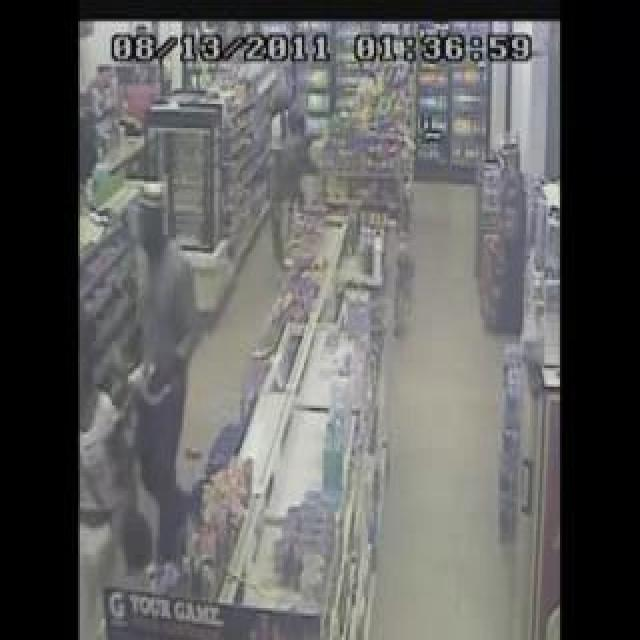thief: (89, 306, 132, 446), (252, 104, 311, 199), (117, 199, 178, 276)
